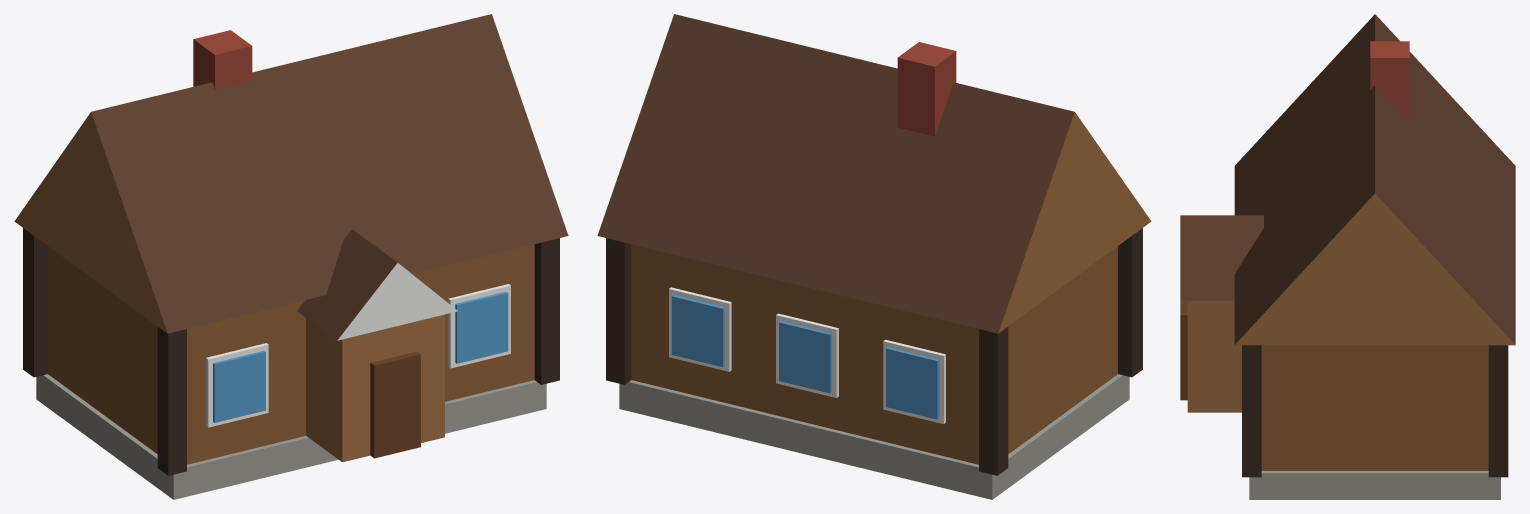
Rendered from 71_lithuanian_troba_1.obj.
3 views of the same model, side by side, from view 1: azimuth 30°, elevation 25°; view 2: azimuth 150°, elevation 25°; view 3: azimuth 270°, elevation 25° (orthographic). The views are drawn at different scales.
Parts seen in each view (by area): view 1: 71_lithuanian_troba_1; view 2: 71_lithuanian_troba_1; view 3: 71_lithuanian_troba_1.
Boxes of the visible parts, x1,y1,x2,y2 form: 71_lithuanian_troba_1: (14, 14, 568, 499); 71_lithuanian_troba_1: (597, 14, 1151, 499); 71_lithuanian_troba_1: (1180, 14, 1515, 499).
Size of the model in its own units: 1.72 by 1.52 by 1.36.
